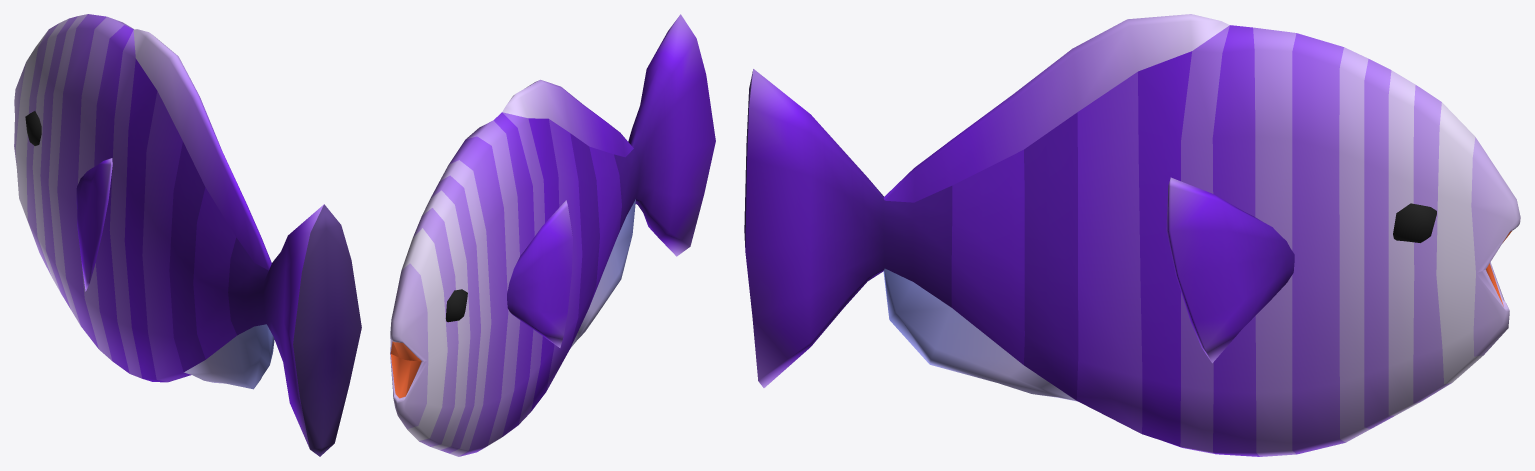
File: Purple_Fish_01.fbx
The picture shows the model from 3 angles, left to right: view 1: azimuth 30°, elevation 25°; view 2: azimuth 150°, elevation 25°; view 3: azimuth 270°, elevation 25°; orthographic projection. The views are drawn at different scales.
Parts seen in each view (by area): view 1: Purple_Fish_01; view 2: Purple_Fish_01; view 3: Purple_Fish_01.
Boxes of the visible parts, x1=… form: Purple_Fish_01: x1=14, y1=14, x2=361, y2=456; Purple_Fish_01: x1=390, y1=14, x2=715, y2=456; Purple_Fish_01: x1=744, y1=14, x2=1520, y2=456.
Size of the model in its own units: 32.07 by 96.57 by 153.
